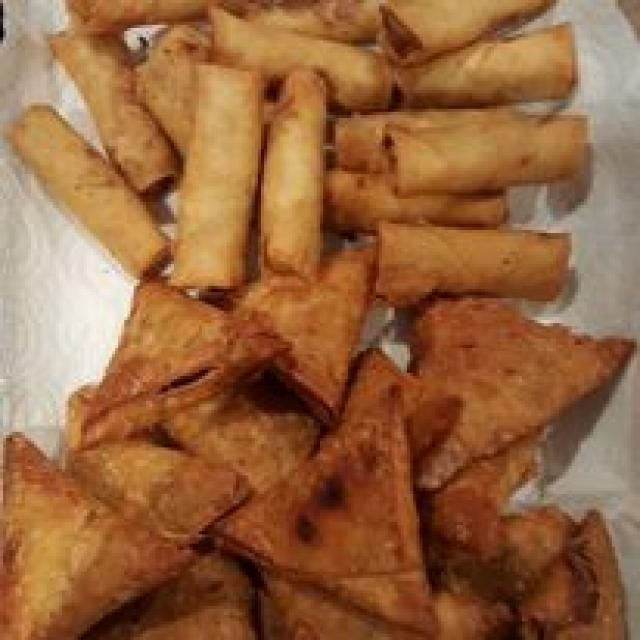Samosa: (0, 267, 640, 640)
Spring Rolls: (2, 0, 622, 297)
